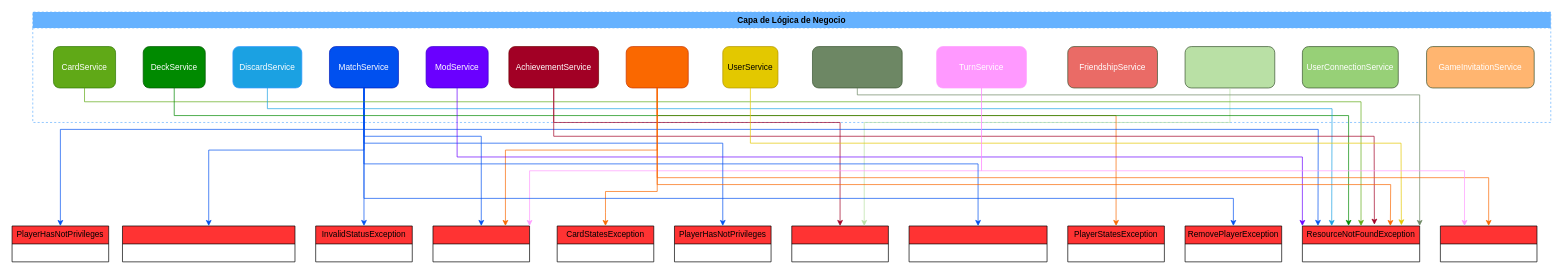
This 1563x274 diagram has some shape labels left out. Here are the shapes that lost their labels. From the top down, the centre of each, then its label:
At [656,67]: "PlayerService".
At [857,67]: "AuthoritiesService".
At [1229,67]: "StatisticService".
At [208,243]: "NotAllSpectatorsAreFriendsException".
At [481,243]: "MatchStatesException".
At [839,243]: "InvalidStatesException".
At [977,243]: "PlayerAlreadyInMatchException".
At [1488,243]: "TurnStatesException".
